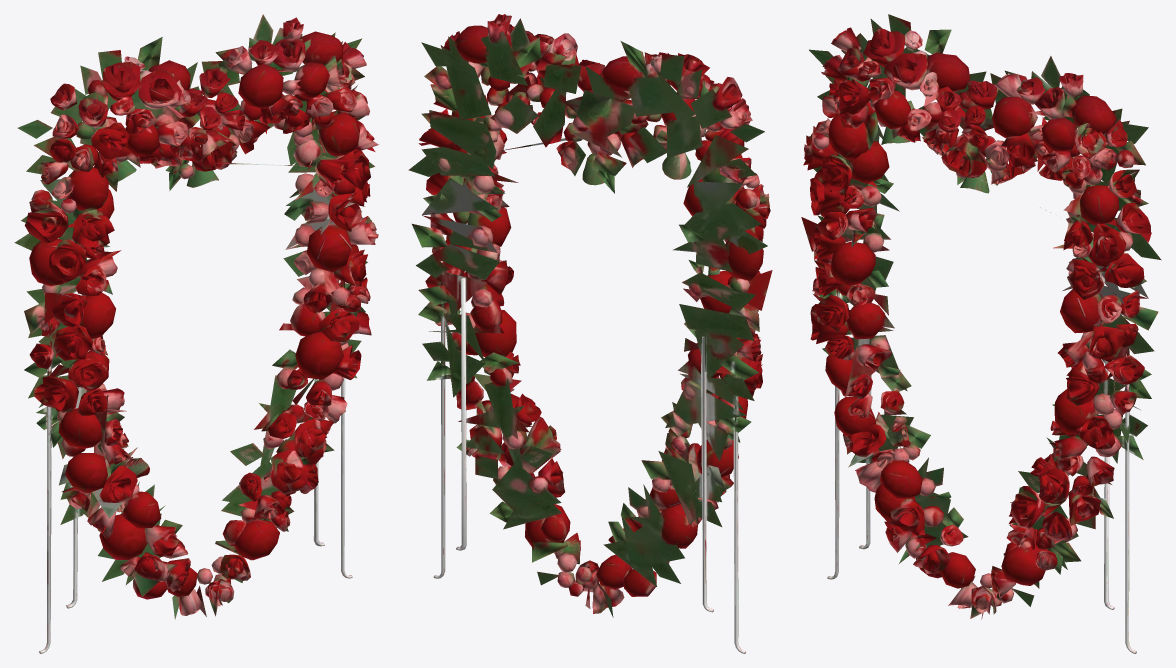
Rendered from arch.glb.
3 renders of one model, left to right at view 1: azimuth 30°, elevation 25°; view 2: azimuth 150°, elevation 25°; view 3: azimuth 330°, elevation 25°, orthographic.
Bounding box in the file's own units: 0.6147 × 0.9531 × 0.1045.
Materials: 1 (1 with a texture image).
